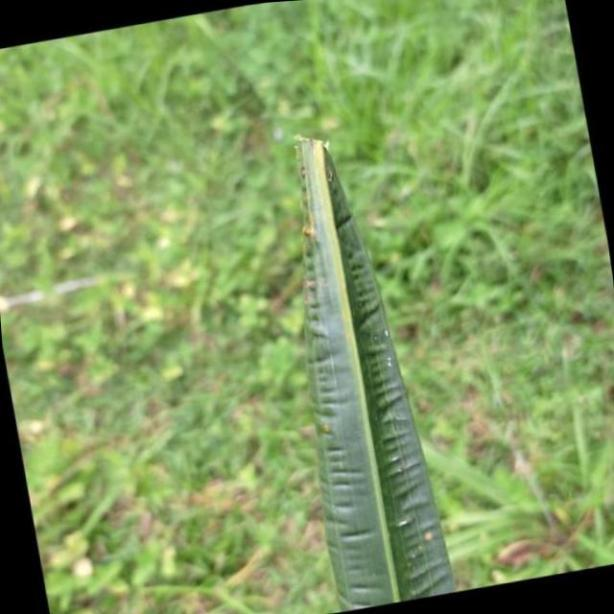Boron: (288, 127, 458, 614)
